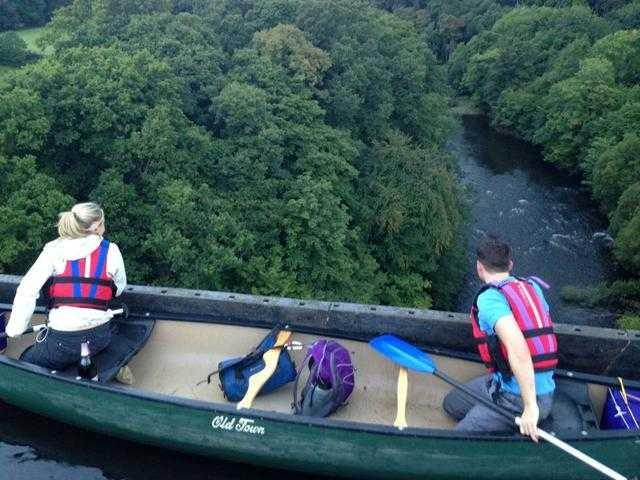kayak: (0, 300, 638, 479)
